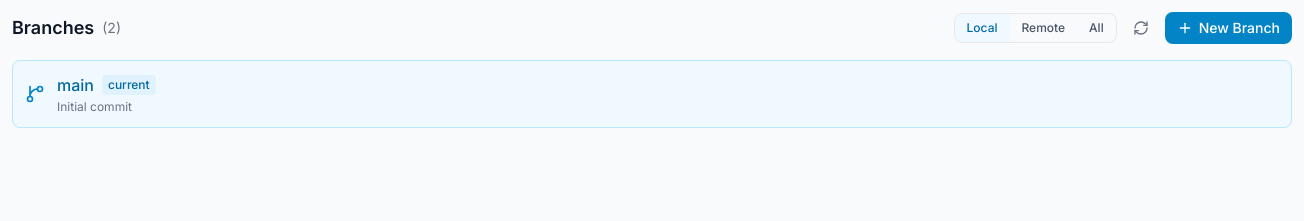
Scenario: BranchList › filters branches by local/remote/all
Expected: the text "main" is shown, [57, 73, 94, 97]
Expected: the text "origin/main" is not shown
Note: Switch to 'Remote' filter
Click the button "Remote" at (1043, 28), box [1010, 14, 1077, 42]
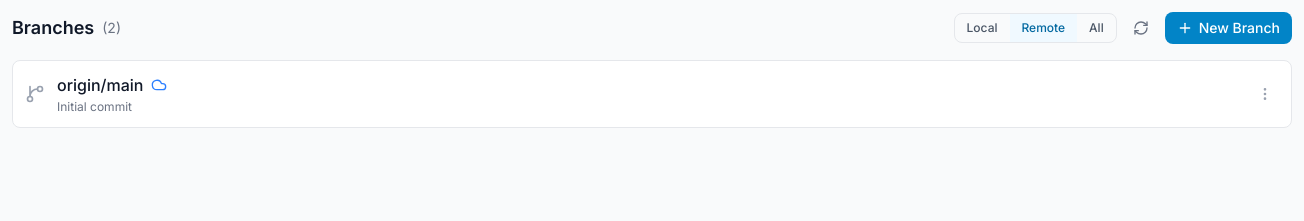
Now the text "origin/main" is shown, box [57, 73, 144, 97]
Note: Switch to 'All' filter
Click the button "All" at (1096, 28), box [1077, 14, 1116, 42]
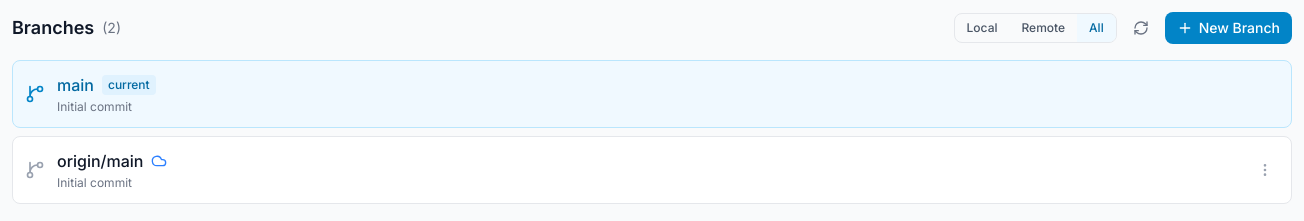
Now the text "origin/main" is shown, box [57, 149, 144, 173]
Now the text "main" is shown, box [57, 73, 94, 97]
